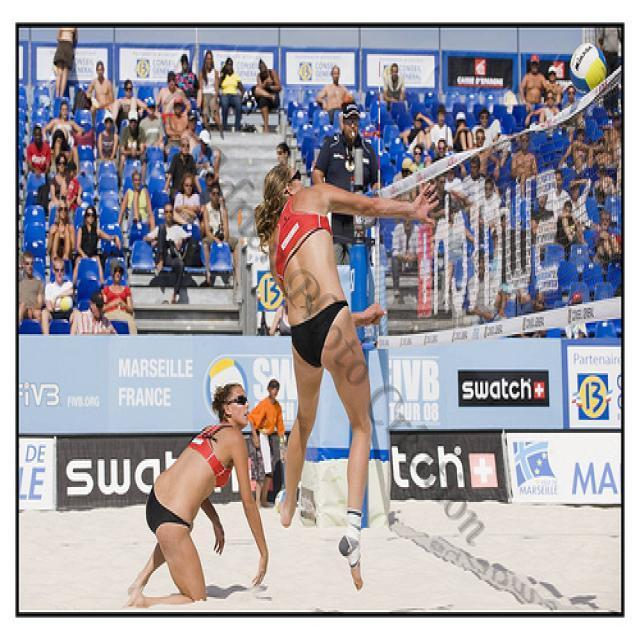volleyball: (568, 42, 608, 94)
